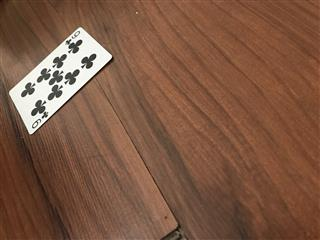NineOfClubs: (7, 25, 112, 134)
